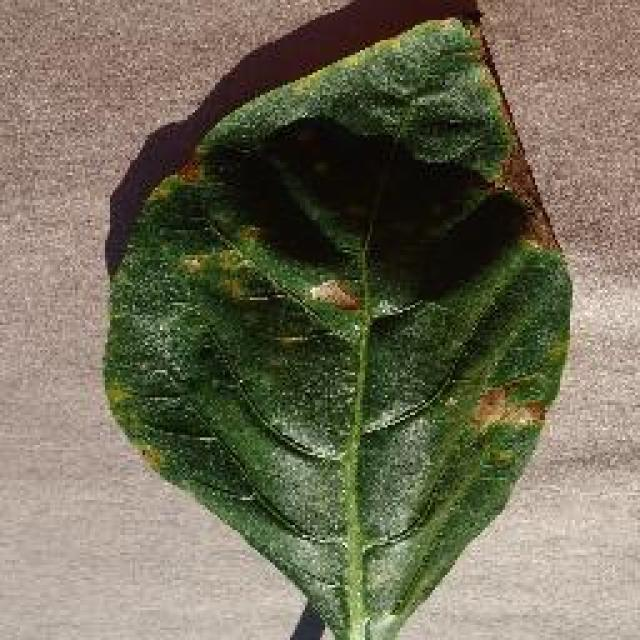Chilli_Bacterial_Spot: (97, 10, 575, 638), (175, 242, 273, 310), (465, 380, 547, 440), (305, 272, 363, 312), (468, 382, 510, 432), (272, 328, 310, 352), (172, 155, 202, 185), (177, 250, 205, 278)
